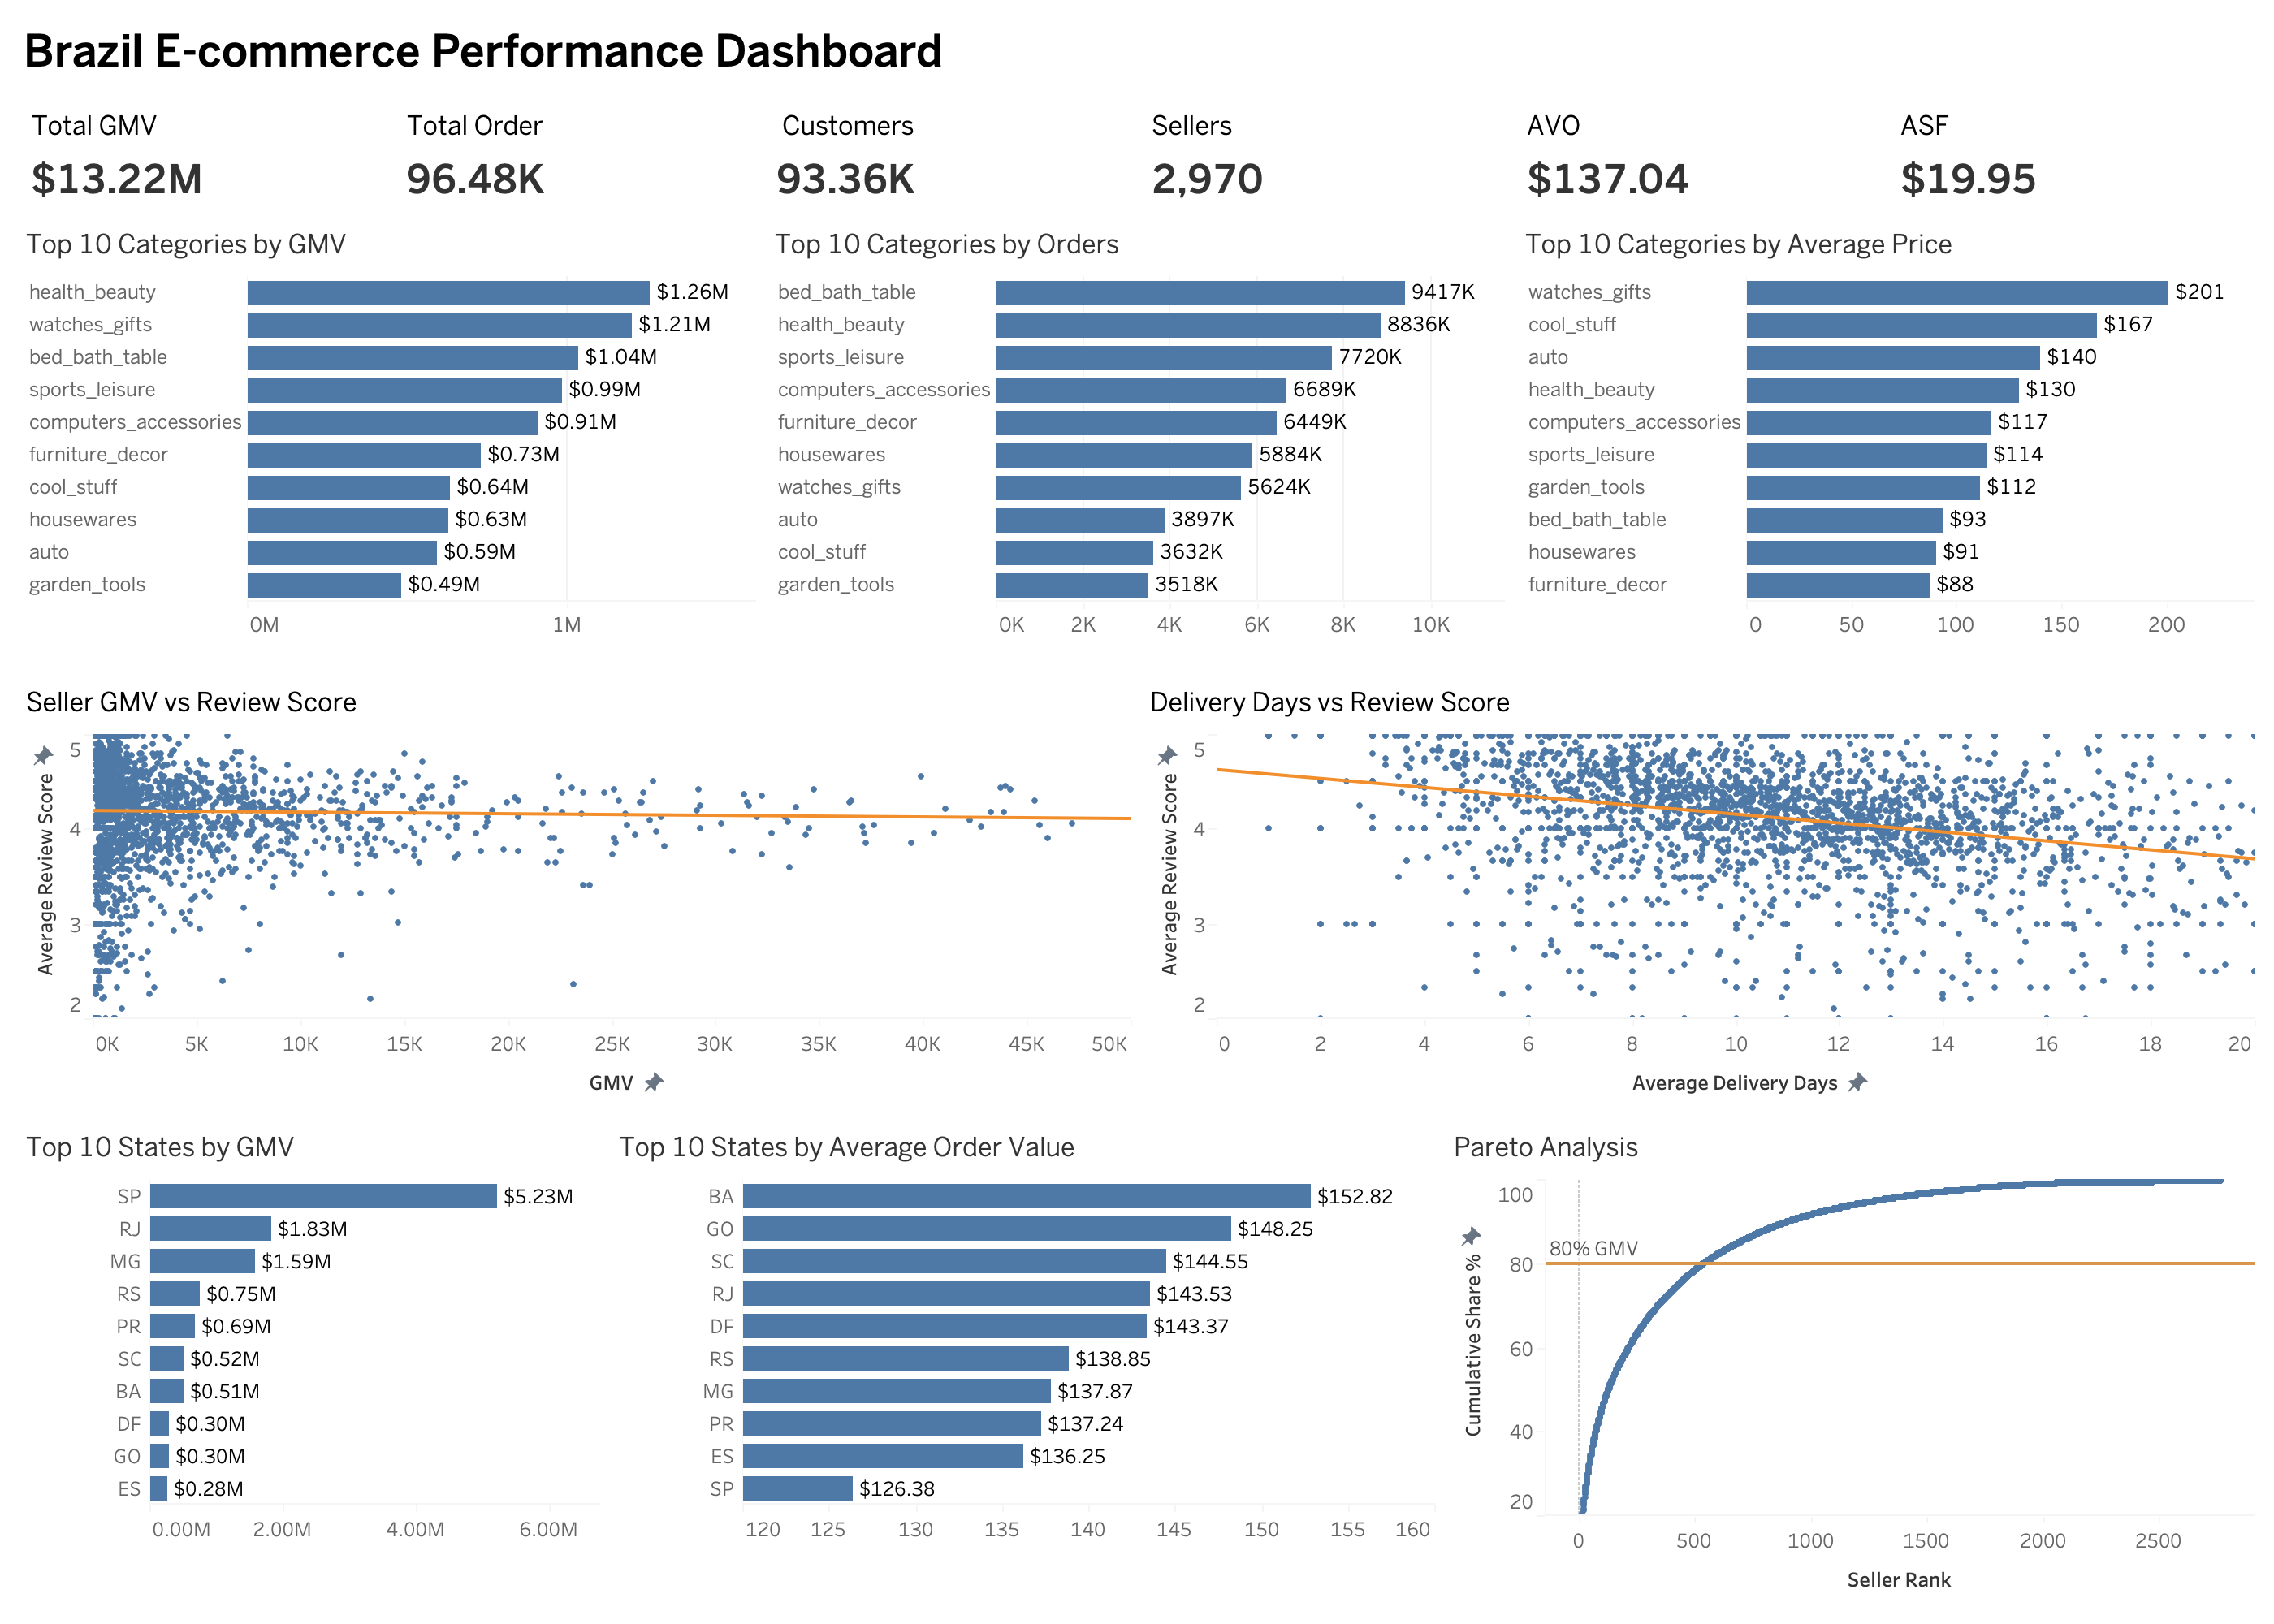

This screenshot's page, from the dashboard's own definition file:
{"tool":"tableau","page":{"name":"Brazil E-commerce Performance Dashboard","canvas":[1400,1000],"ordinal":0},"visuals":[{"type":"text","box":[8,8,1384,49]},{"type":"worksheet","title":"Total GMV","mark":"Automatic","box":[8,57,231,73]},{"type":"worksheet","title":"Total Order","mark":"Automatic","box":[239,57,231,73]},{"type":"worksheet","title":"Active Customers","mark":"Automatic","box":[470,57,231,73]},{"type":"worksheet","title":"Active Sellers","mark":"Automatic","box":[701,57,231,73]},{"type":"worksheet","title":"Avg Order Value","mark":"Automatic","box":[932,57,230,73]},{"type":"worksheet","title":"Avg Shipping Fee","mark":"Automatic","box":[1162,57,230,73]},{"type":"worksheet","title":"Top 10 Categories by GMV","mark":"Automatic","rows":["category"],"cols":["gmv"],"box":[8,130,461.3,282]},{"type":"worksheet","title":"Top 10 Categories by Orders","mark":"Automatic","rows":["category"],"cols":["orders"],"box":[469.3,130,461.3,282]},{"type":"worksheet","title":"Top 10 Categories by Average Price","mark":"Automatic","rows":["category"],"cols":["avg_price"],"box":[930.6,130,461.3,282]},{"type":"worksheet","title":"Seller GMV vs Review Score","mark":"Automatic","rows":["avg_review_score"],"cols":["gmv"],"box":[8,412,692,274]},{"type":"worksheet","title":"Delivery Days vs Review Score ","mark":"Automatic","rows":["avg_review_score"],"cols":["avg_delivery_days"],"box":[700,412,692,274]},{"type":"worksheet","title":"Top 10 States by GMV","mark":"Automatic","rows":["customer_state"],"cols":["gmv"],"box":[8,686,364.7,306]},{"type":"worksheet","title":"Top 10 States by Average Order Value","mark":"Automatic","rows":["customer_state"],"cols":["avg_order_value"],"box":[372.7,686,514,306]},{"type":"worksheet","title":"Pareto Analysis","mark":"Automatic","rows":["cumulative_share"],"cols":["seller_rank"],"box":[886.7,686,505.3,306]}]}

Visuals, with their boxes in screenshot pixels (x1, y1, x2, y2), scaled from the page's 1400x1000 canvas onto the 2274x1624 screenshot:
text: 13, 13, 2261, 93
"Total GMV" worksheet: 13, 93, 388, 211
"Total Order" worksheet: 388, 93, 763, 211
"Active Customers" worksheet: 763, 93, 1139, 211
"Active Sellers" worksheet: 1139, 93, 1514, 211
"Avg Order Value" worksheet: 1514, 93, 1887, 211
"Avg Shipping Fee" worksheet: 1887, 93, 2261, 211
"Top 10 Categories by GMV" worksheet: 13, 211, 763, 669
"Top 10 Categories by Orders" worksheet: 763, 211, 1511, 669
"Top 10 Categories by Average Price" worksheet: 1511, 211, 2261, 669
"Seller GMV vs Review Score" worksheet: 13, 669, 1137, 1114
"Delivery Days vs Review Score " worksheet: 1137, 669, 2261, 1114
"Top 10 States by GMV" worksheet: 13, 1114, 605, 1611
"Top 10 States by Average Order Value" worksheet: 605, 1114, 1440, 1611
"Pareto Analysis" worksheet: 1440, 1114, 2261, 1611
